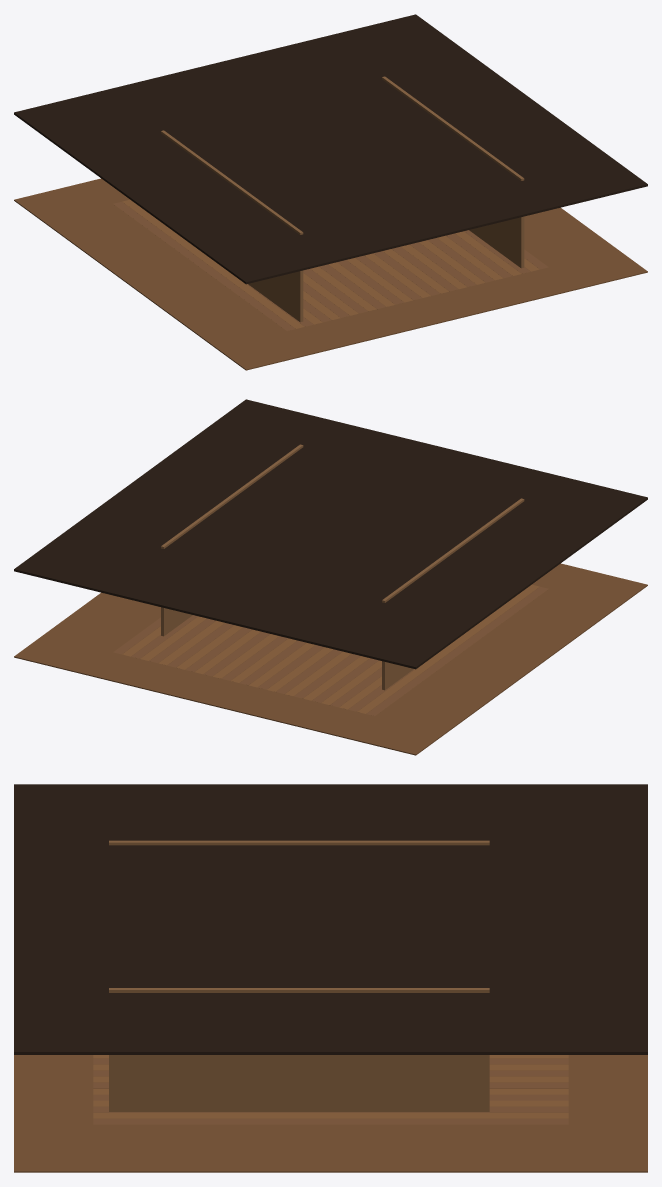
The model's file is hall.glb.
3 renders of one model, top to bottom at view 1: azimuth 30°, elevation 25°; view 2: azimuth 150°, elevation 25°; view 3: azimuth 270°, elevation 25°, orthographic. The views are drawn at different scales.
Visible parts, largest first — view 1: hall; view 2: hall; view 3: hall.
Part boxes in pixels (box(x1,y1,x2,y2)): hall: box(14, 14, 647, 370); hall: box(14, 399, 647, 755); hall: box(14, 784, 647, 1172).
Size of the model in its own units: 40 by 9 by 40.
